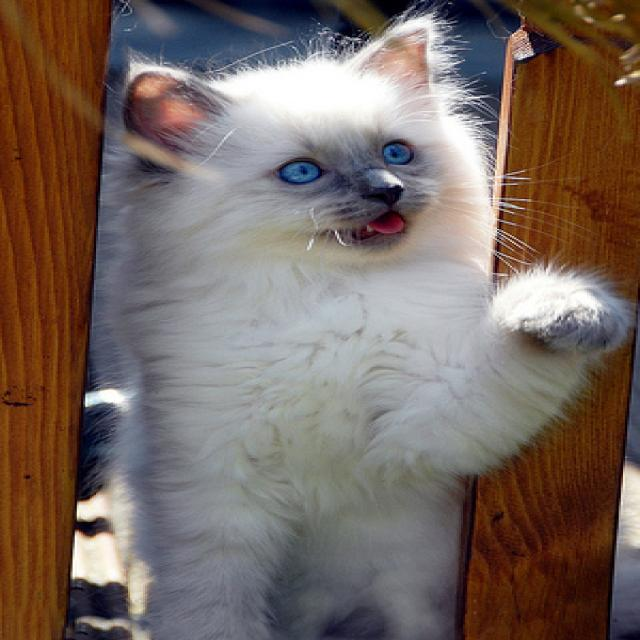Ragdoll: (109, 11, 638, 640)
